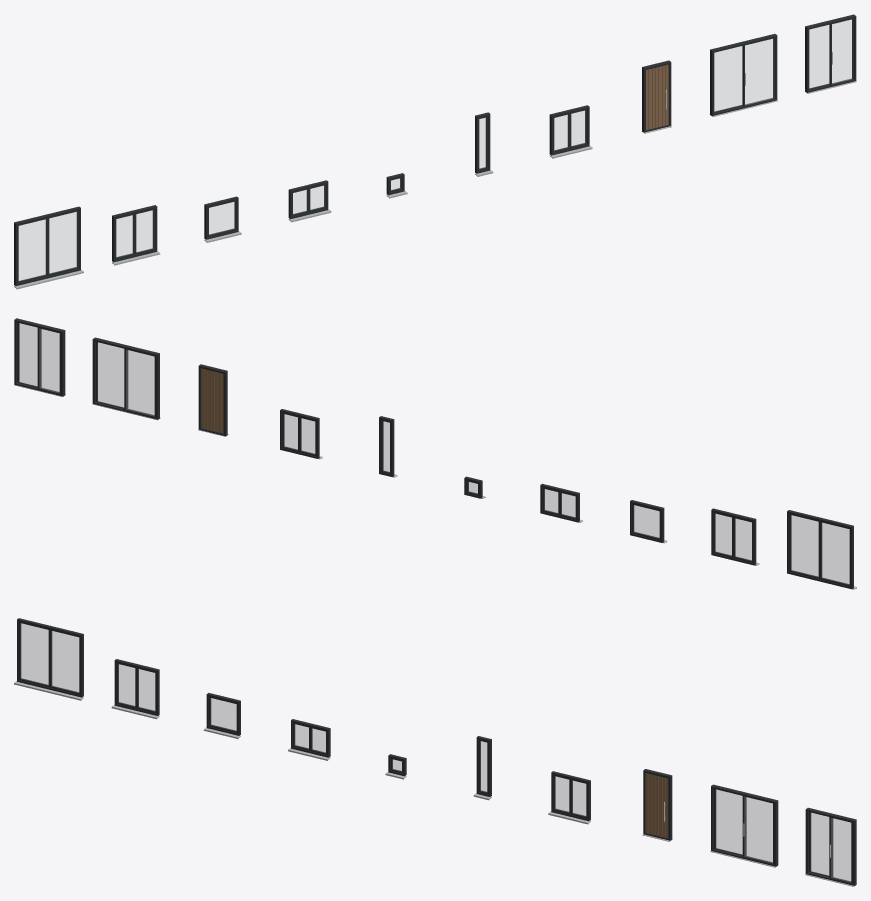
File: kit.glb
The picture shows the model from 3 angles, top to bottom: view 1: azimuth 30°, elevation 25°; view 2: azimuth 150°, elevation 25°; view 3: azimuth 330°, elevation 25°; orthographic projection.
Visible parts, largest first — view 1: G_240_vidro, W_sala_vidro, G_180_vidro, W_sala_alu_antracite, D_entrada_madeira_porta, G_240_alu_antracite, W_sala2_vidro, G_180_alu_antracite, W_sala2_alu_antracite, W_livre_vidro, W_livre_alu_antracite, W_cozinha_alu_antracite (+5 smaller); view 2: G_240_vidro, W_sala_vidro, G_180_vidro, G_240_alu_antracite, G_180_alu_antracite, W_sala_alu_antracite, D_entrada_madeira_porta, W_sala2_vidro, W_sala2_alu_antracite, W_livre_vidro, W_livre_alu_antracite, D_entrada_alu_antracite (+5 smaller); view 3: G_240_vidro, W_sala_vidro, G_180_vidro, G_240_alu_antracite, G_180_alu_antracite, W_sala_alu_antracite, D_entrada_madeira_porta, W_sala2_vidro, W_sala2_alu_antracite, W_livre_vidro, W_livre_alu_antracite, W_quarto_vidro (+5 smaller).
Boxes of the visible parts, box(x1,y1,x2,y2) form: G_240_vidro: box(714, 39, 773, 111); W_sala_vidro: box(19, 212, 76, 280); G_180_vidro: box(809, 19, 851, 88); W_sala_alu_antracite: box(14, 206, 80, 285); D_entrada_madeira_porta: box(646, 64, 668, 129); G_240_alu_antracite: box(710, 34, 777, 115); W_sala2_vidro: box(116, 210, 152, 257); G_180_alu_antracite: box(805, 14, 856, 92); W_sala2_alu_antracite: box(112, 205, 157, 262); W_livre_vidro: box(554, 110, 585, 150); W_livre_alu_antracite: box(549, 105, 589, 155); W_cozinha_alu_antracite: box(288, 180, 328, 219); G_240_vidro: box(98, 342, 154, 415); W_sala_vidro: box(791, 515, 849, 584); G_180_vidro: box(19, 323, 59, 392); G_240_alu_antracite: box(92, 337, 159, 419); G_180_alu_antracite: box(14, 318, 65, 396); W_sala_alu_antracite: box(787, 510, 853, 589); D_entrada_madeira_porta: box(201, 368, 223, 433); W_sala2_vidro: box(715, 513, 751, 560); W_sala2_alu_antracite: box(711, 508, 756, 565); W_livre_vidro: box(284, 414, 314, 453); W_livre_alu_antracite: box(280, 409, 319, 458); D_entrada_alu_antracite: box(198, 364, 227, 436); G_240_vidro: box(716, 789, 772, 862); W_sala_vidro: box(21, 623, 78, 692); G_180_vidro: box(811, 813, 850, 881); G_240_alu_antracite: box(711, 784, 778, 866); G_180_alu_antracite: box(805, 807, 856, 885); W_sala_alu_antracite: box(17, 618, 83, 697); D_entrada_madeira_porta: box(645, 773, 668, 838); W_sala2_vidro: box(118, 664, 154, 710); W_sala2_alu_antracite: box(114, 659, 159, 715); W_livre_vidro: box(555, 776, 585, 816); W_livre_alu_antracite: box(551, 771, 590, 821); W_quarto_vidro: box(211, 698, 236, 730).
Size of the model in its own units: 30.94 by 2.36 by 0.26.
